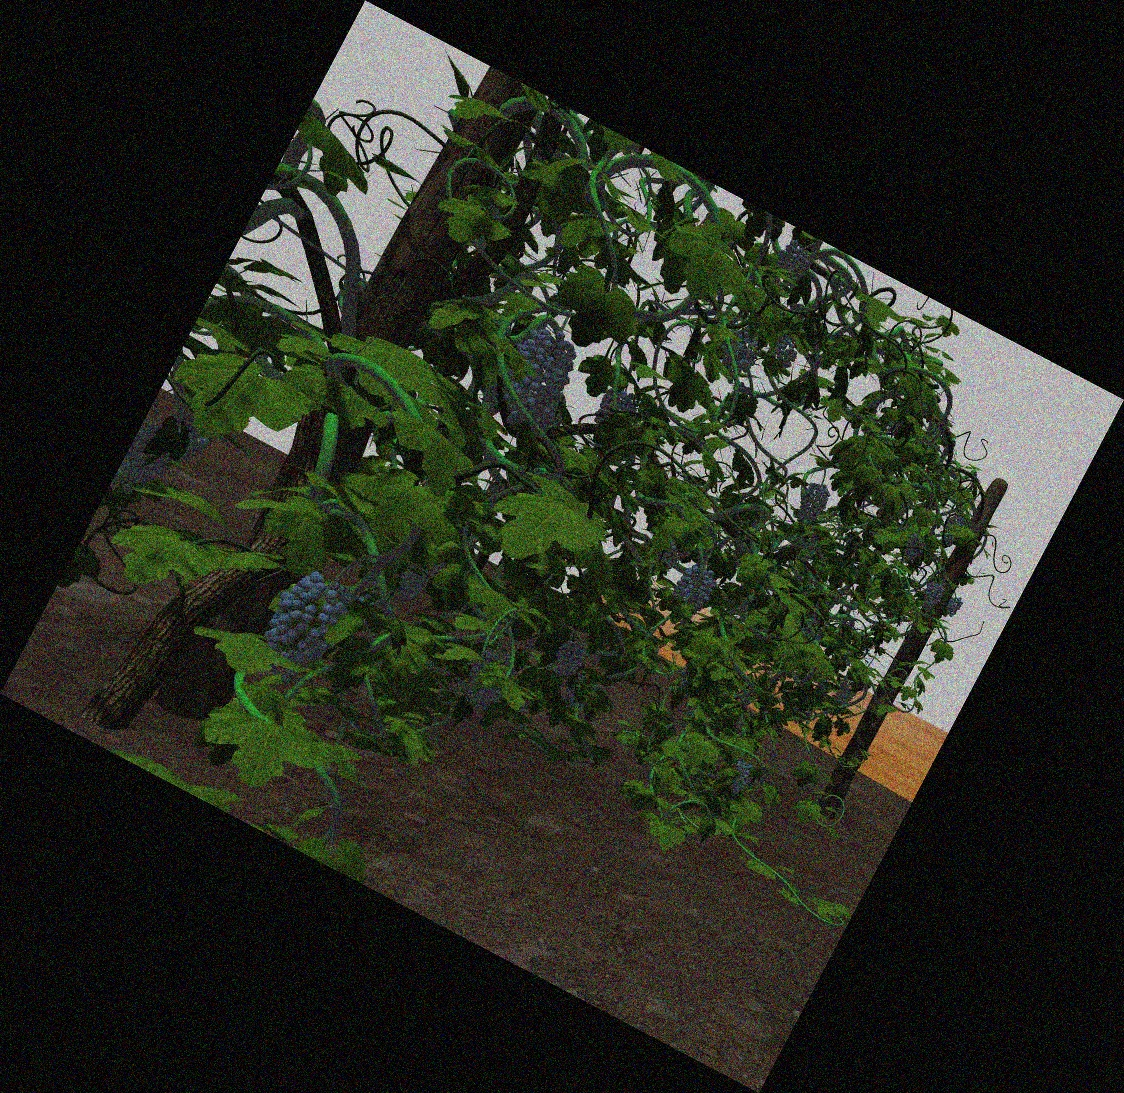grape: (273, 577, 340, 660), (506, 336, 563, 424), (127, 432, 163, 496), (674, 567, 711, 611), (724, 334, 755, 374), (556, 640, 585, 676), (800, 484, 824, 524), (779, 241, 809, 272), (726, 762, 751, 794), (904, 534, 926, 562), (923, 581, 942, 609), (775, 340, 797, 364), (836, 680, 854, 703), (945, 596, 963, 615)
